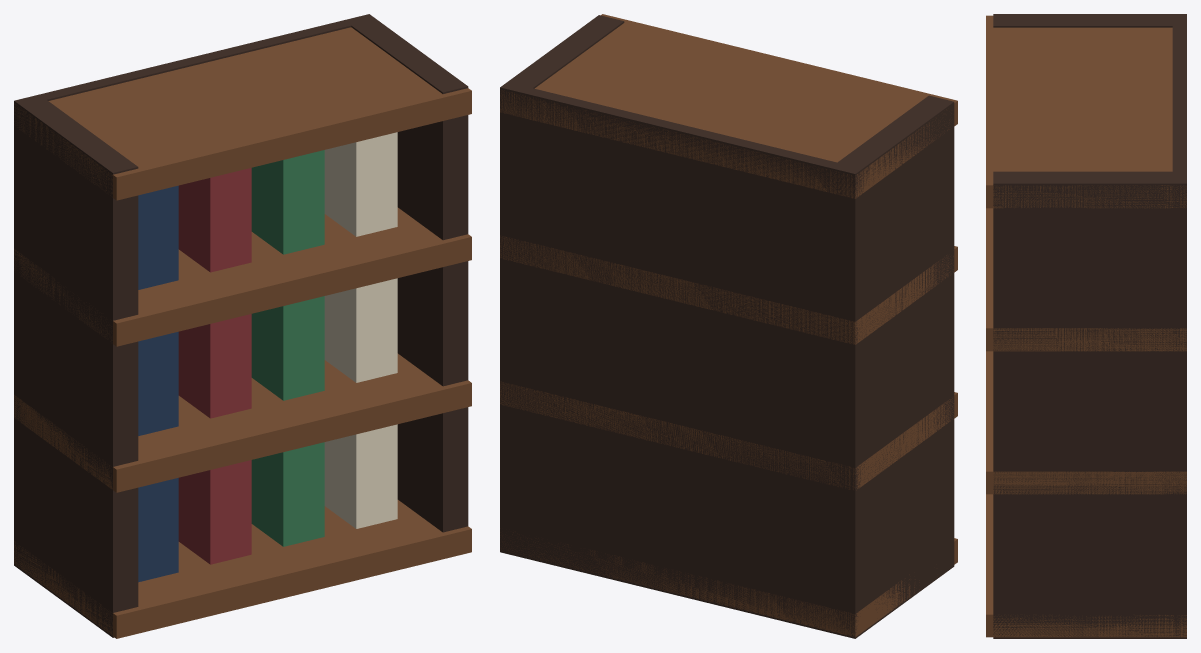
The model's file is guild_bookcase.glb.
The picture shows the model from 3 angles, left to right: view 1: azimuth 30°, elevation 25°; view 2: azimuth 150°, elevation 25°; view 3: azimuth 270°, elevation 25°; orthographic projection. The views are drawn at different scales.
Visible parts, largest first — view 1: guild_bookcase; view 2: guild_bookcase; view 3: guild_bookcase.
Part boxes in pixels (x1=…): guild_bookcase: x1=14, y1=14, x2=471, y2=638; guild_bookcase: x1=500, y1=14, x2=957, y2=638; guild_bookcase: x1=986, y1=14, x2=1186, y2=638.
Bounding box in the file's own units: 5.6 × 7 × 2.8.
